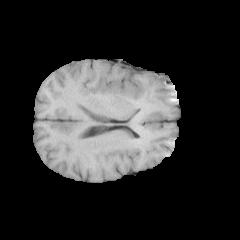glioma: (85, 73, 137, 124)
